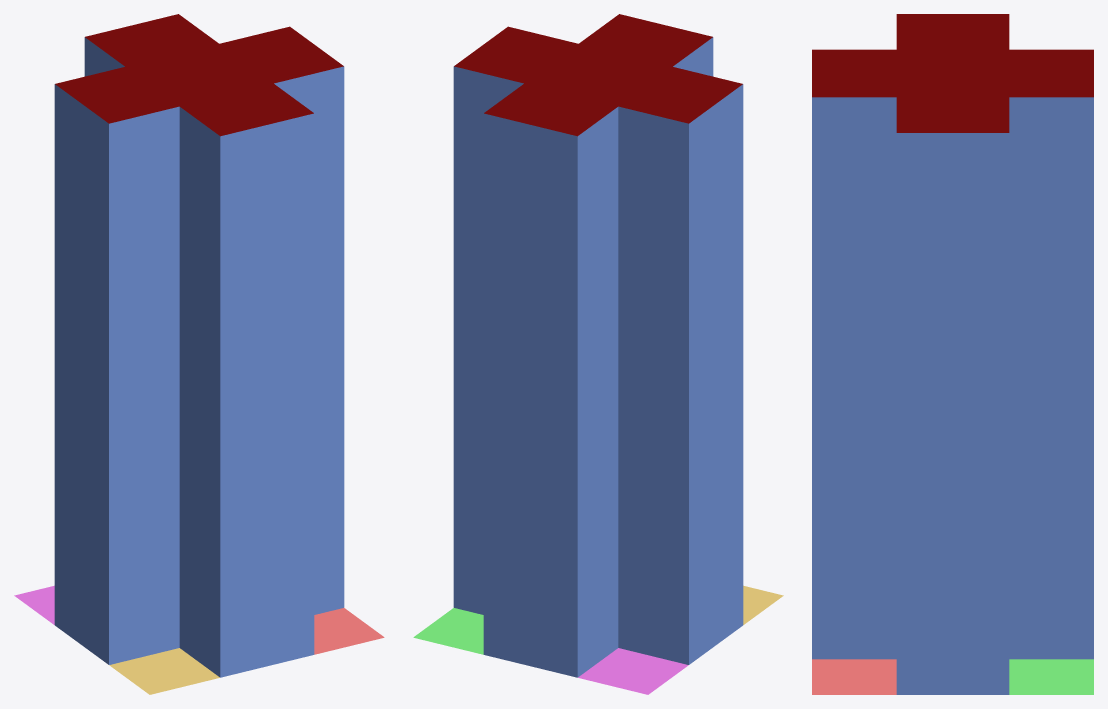
Rendered from WallCrossing.fbx.
The picture shows the model from 3 angles, left to right: view 1: azimuth 30°, elevation 25°; view 2: azimuth 150°, elevation 25°; view 3: azimuth 270°, elevation 25°; orthographic projection. The views are drawn at different scales.
Parts seen in each view (by area): view 1: WallCrossing; view 2: WallCrossing; view 3: WallCrossing.
Boxes of the visible parts, x1,y1,x2,y2 form: WallCrossing: (14,14,384,694); WallCrossing: (413,14,783,694); WallCrossing: (812,14,1093,694).
Bounding box in the file's own units: 100 × 220 × 100.
